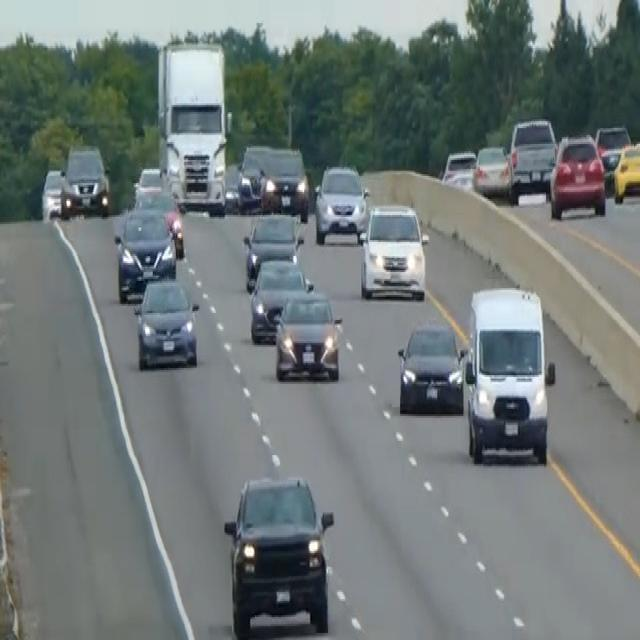car: (222, 471, 335, 638), (359, 201, 428, 300), (396, 318, 465, 416), (274, 286, 343, 382), (133, 276, 200, 370), (113, 207, 177, 300), (249, 254, 312, 343), (548, 132, 606, 218), (242, 210, 303, 288), (313, 162, 369, 244), (507, 115, 557, 201), (59, 142, 110, 219), (133, 185, 185, 256), (259, 146, 309, 218), (594, 123, 631, 192), (236, 142, 272, 210), (472, 142, 511, 198), (612, 138, 639, 202), (441, 148, 476, 188), (40, 166, 64, 220), (236, 166, 262, 212), (133, 163, 164, 201), (223, 160, 241, 210)
lorry: (155, 37, 230, 215)
minibus: (461, 281, 556, 466)
